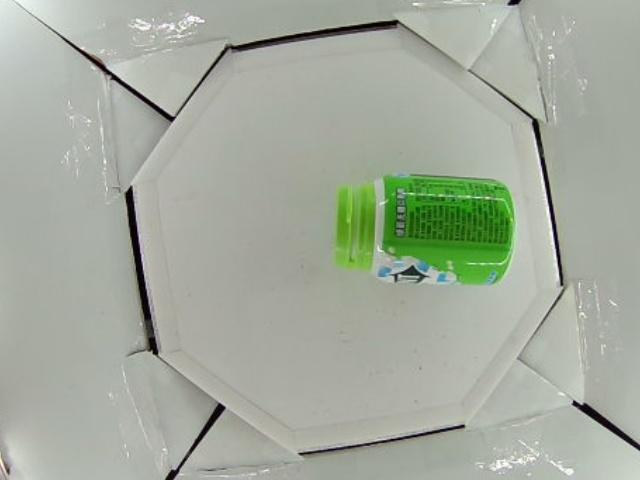Bottle: (336, 172, 516, 287)
